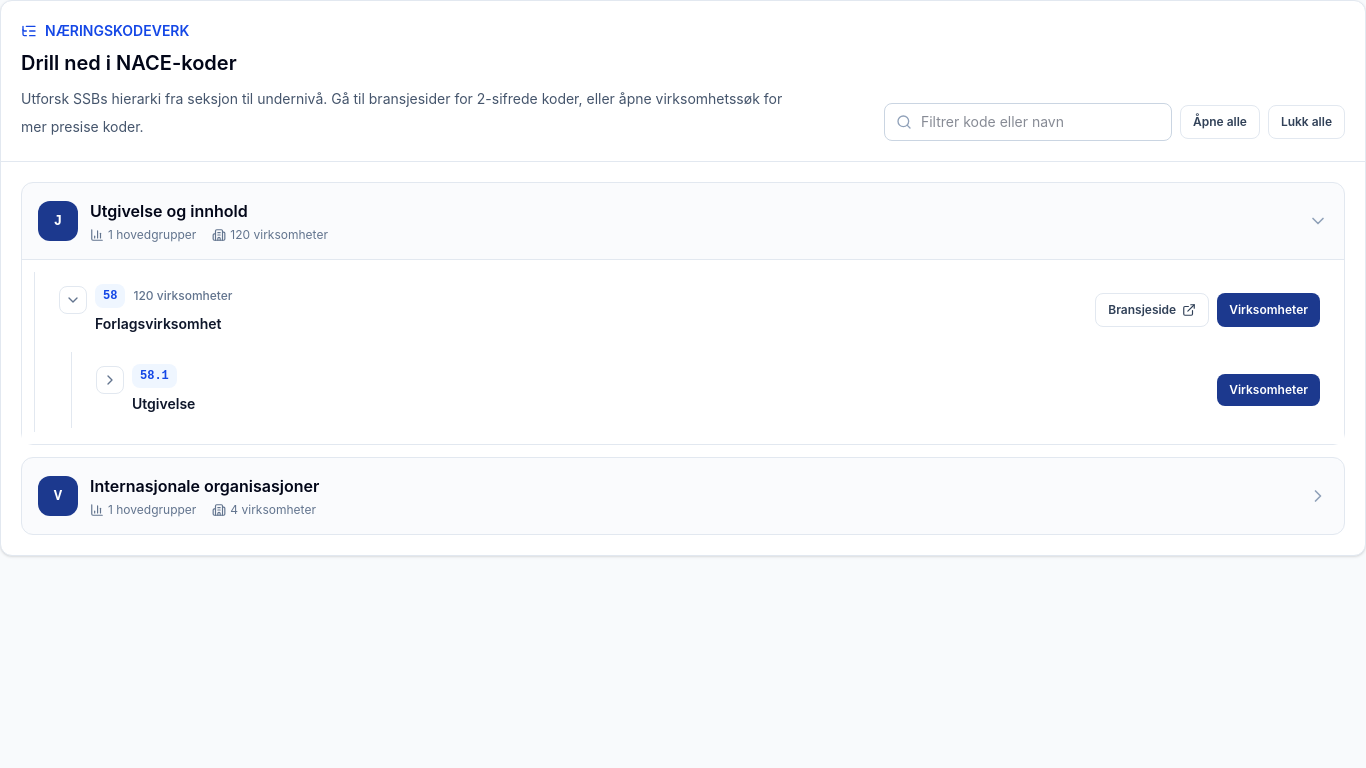
Test: NaceHierarchyBrowser › links precise search results to the company search tab instead of a modal
The image size is (1366, 768).
Step 1. Type "58.11" into the search field named "Filtrer næringskodeverket" → (1028, 122), box [884,103,1172,141]
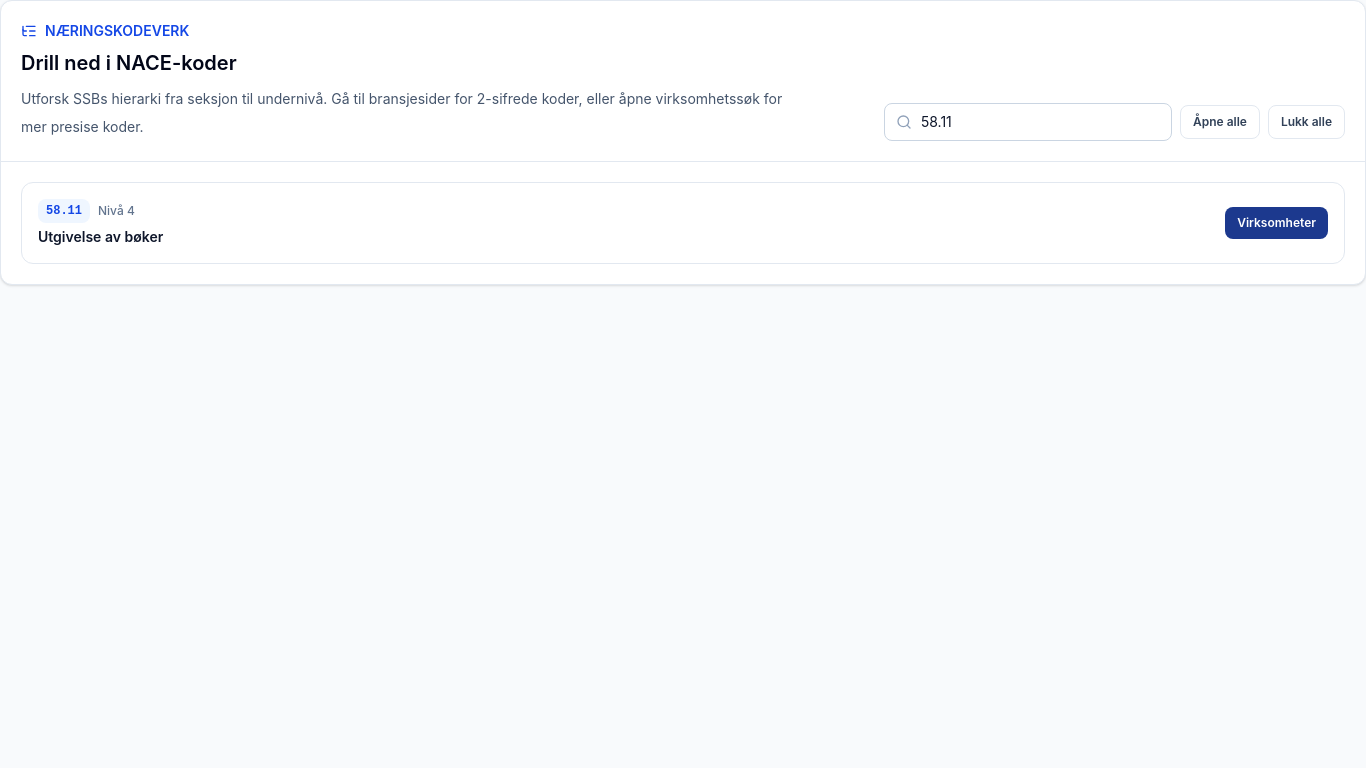
Check: the text "Utgivelse av bøker" is shown, box [38,227,163,247]
